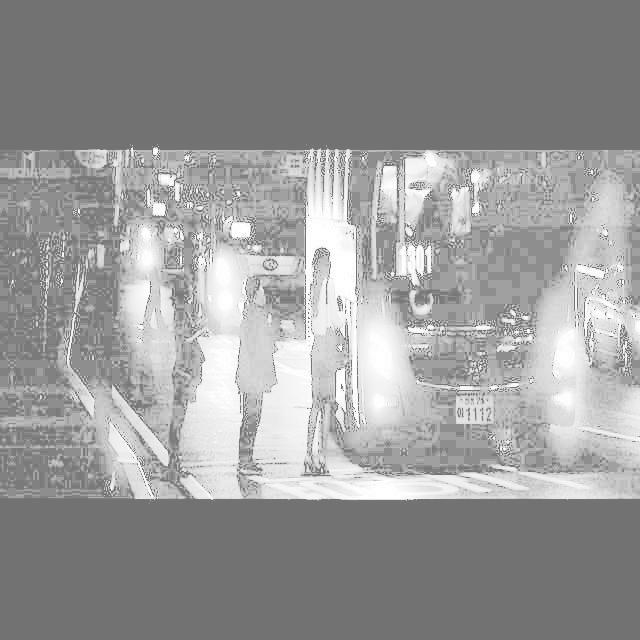Bus: (300, 137, 581, 470)
Car: (581, 244, 640, 415)
